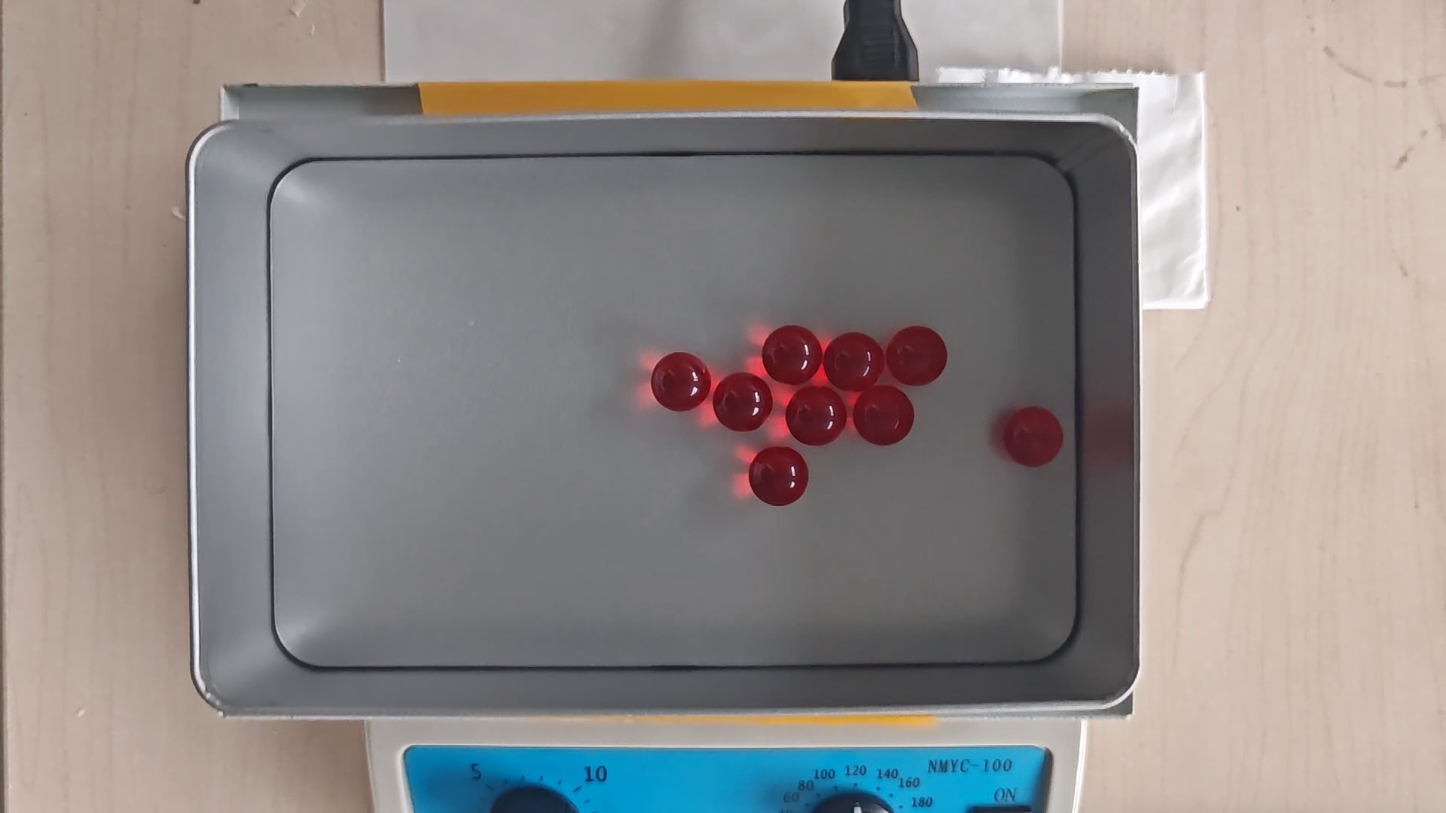ball: (1003, 406, 1065, 469), (786, 386, 848, 447), (854, 386, 916, 447), (750, 445, 810, 507), (650, 351, 710, 413), (888, 325, 948, 386), (714, 372, 773, 433), (762, 325, 821, 385), (824, 331, 883, 391)
container: (270, 154, 1078, 667)
